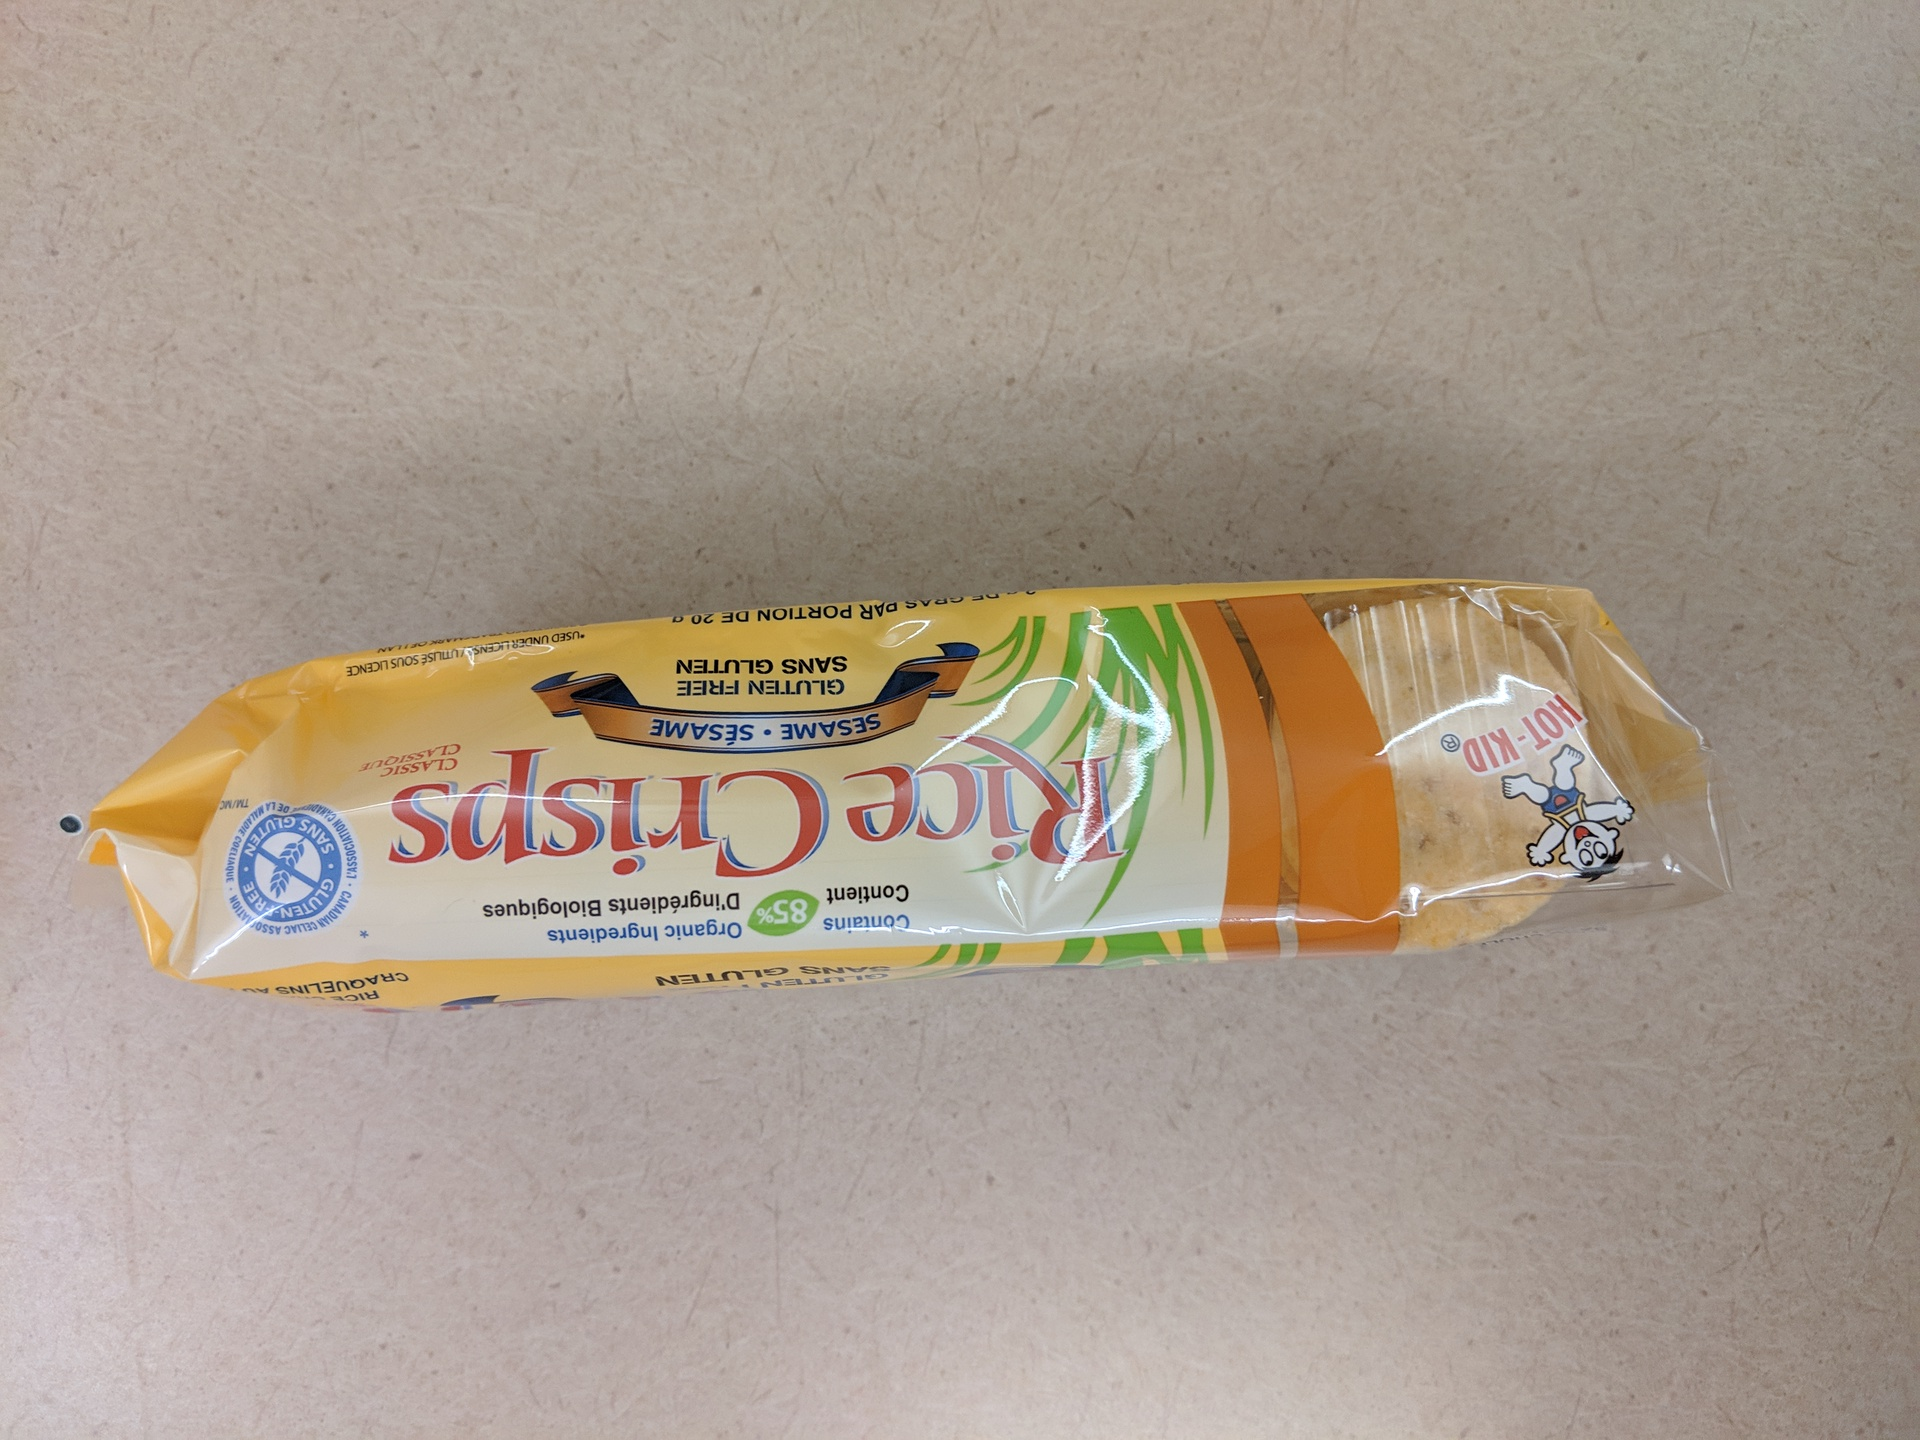hot_kid_rice_crisps_sesame: (74, 571, 1745, 1015)
